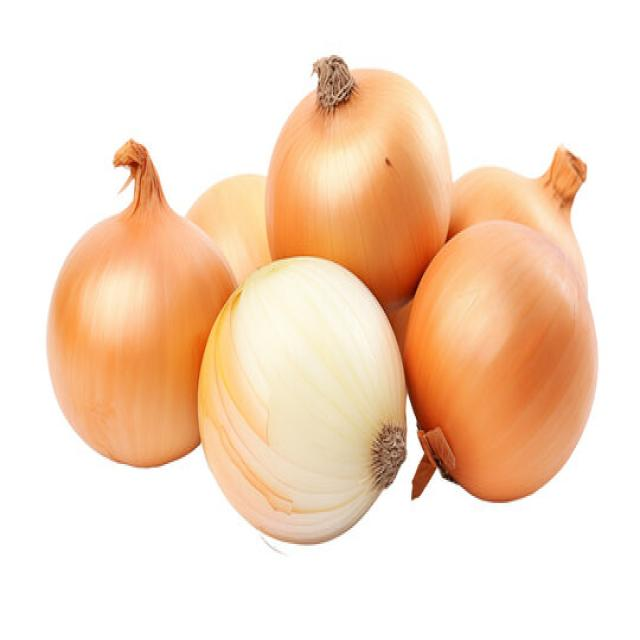Onion: (45, 137, 237, 467), (196, 252, 407, 546), (402, 217, 598, 503), (263, 53, 453, 310), (447, 142, 589, 297), (184, 172, 271, 288), (388, 295, 412, 357)
